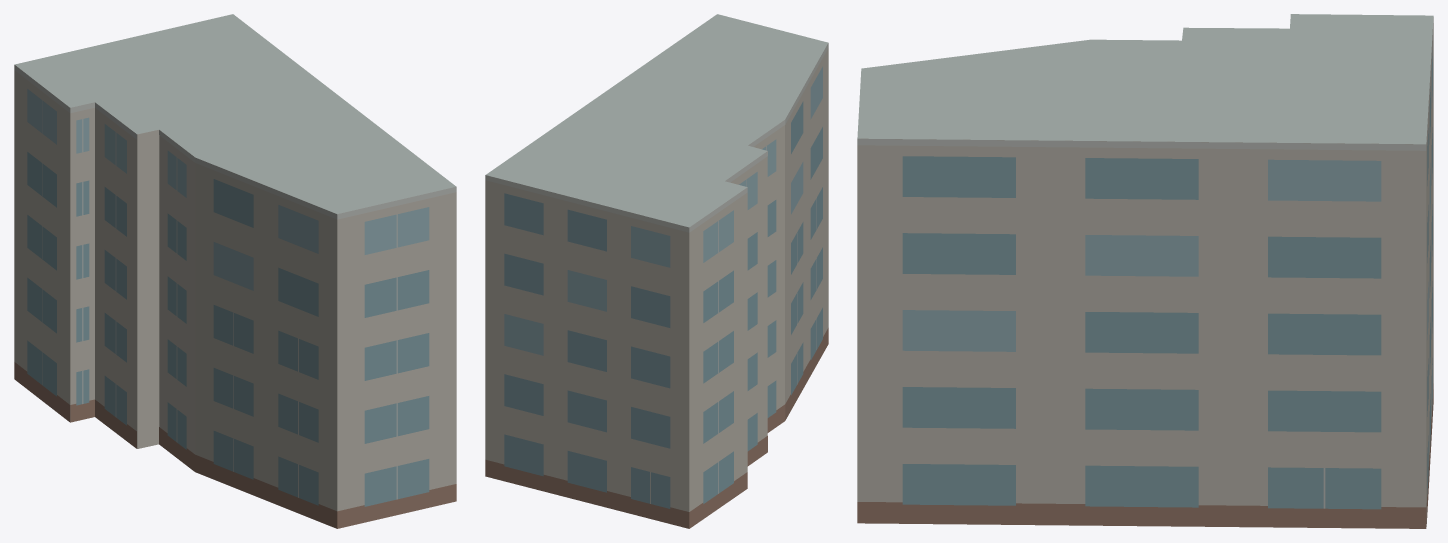
The model's file is survey-upis-32650018.glb.
3 renders of one model, left to right at view 1: azimuth 30°, elevation 25°; view 2: azimuth 150°, elevation 25°; view 3: azimuth 270°, elevation 25°, orthographic. The views are drawn at different scales.
Visible parts, largest first — view 1: survey-upis-32650018.tmp; view 2: survey-upis-32650018.tmp; view 3: survey-upis-32650018.tmp.
Part boxes in pixels (left/top/right/bottom): survey-upis-32650018.tmp: left=14, top=14, right=456, bottom=528; survey-upis-32650018.tmp: left=485, top=14, right=828, bottom=528; survey-upis-32650018.tmp: left=857, top=14, right=1433, bottom=528.
Size of the model in its own units: 10.29 by 14.15 by 19.22.
